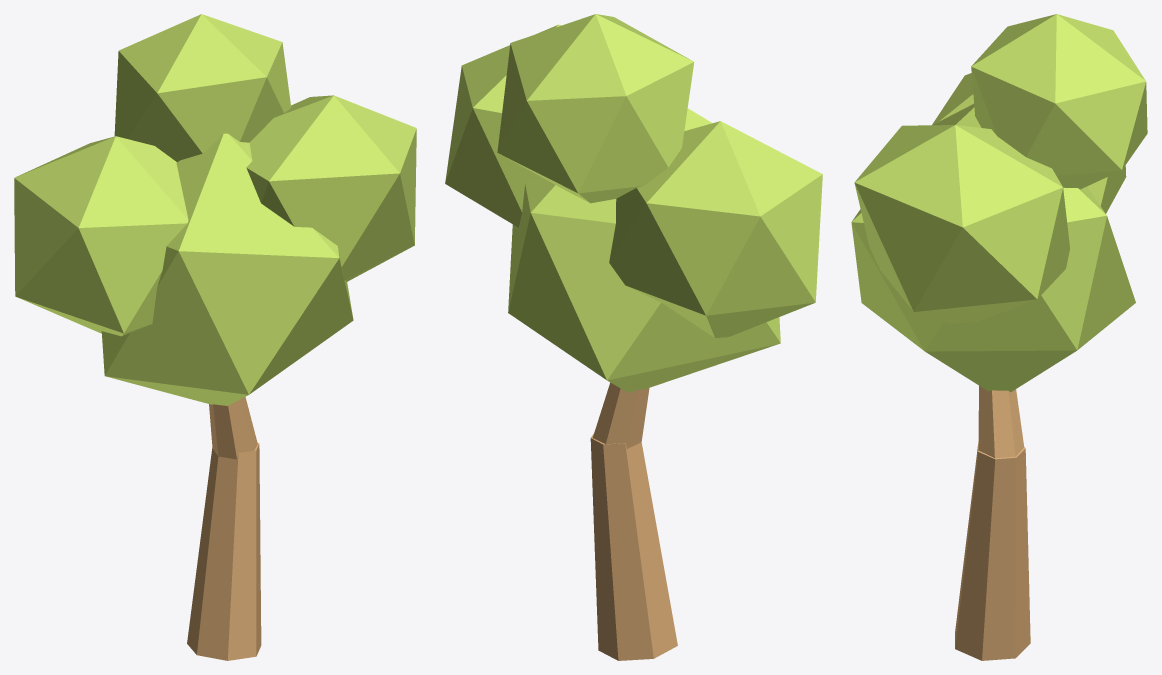
The model's file is Tree_Blob.fbx.
The picture shows the model from 3 angles, left to right: view 1: azimuth 30°, elevation 25°; view 2: azimuth 150°, elevation 25°; view 3: azimuth 270°, elevation 25°; orthographic projection. The views are drawn at different scales.
Parts seen in each view (by area): view 1: Tree_Blob; view 2: Tree_Blob; view 3: Tree_Blob.
Part boxes in pixels (box(x1,y1,x2,y2)): Tree_Blob: box(14, 14, 416, 660); Tree_Blob: box(445, 14, 822, 660); Tree_Blob: box(851, 14, 1147, 660).
Size of the model in its own units: 1.76 by 2.82 by 1.19.
